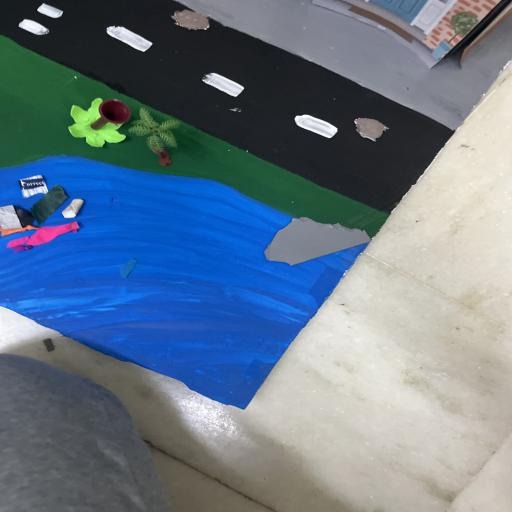fallen trees: (69, 100, 132, 147)
porthole: (264, 216, 372, 265), (350, 117, 392, 142), (170, 10, 213, 32)
trash: (0, 173, 90, 254)
